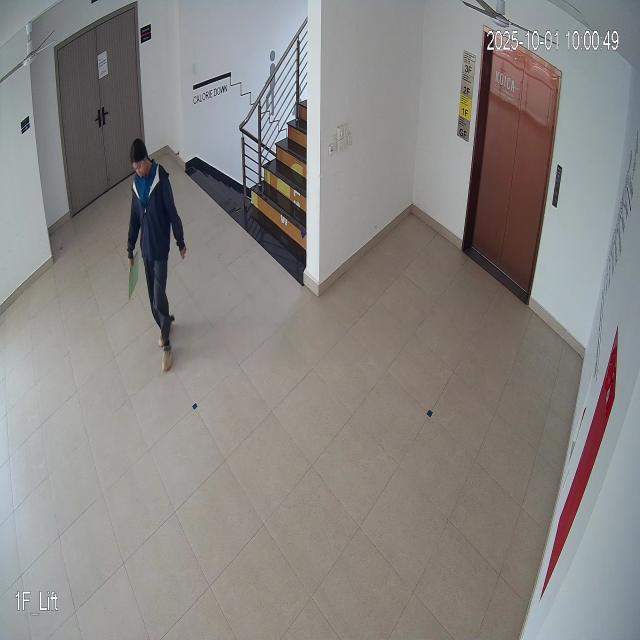face: (127, 138, 153, 182)
